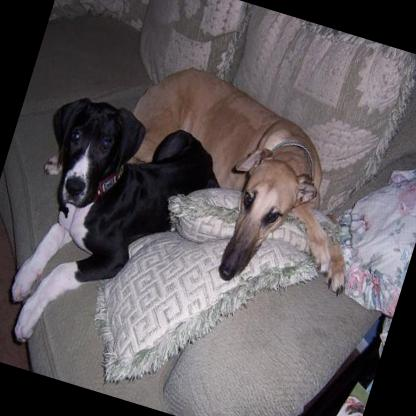Great_Dane: (26, 32, 393, 314), (0, 88, 235, 385)
